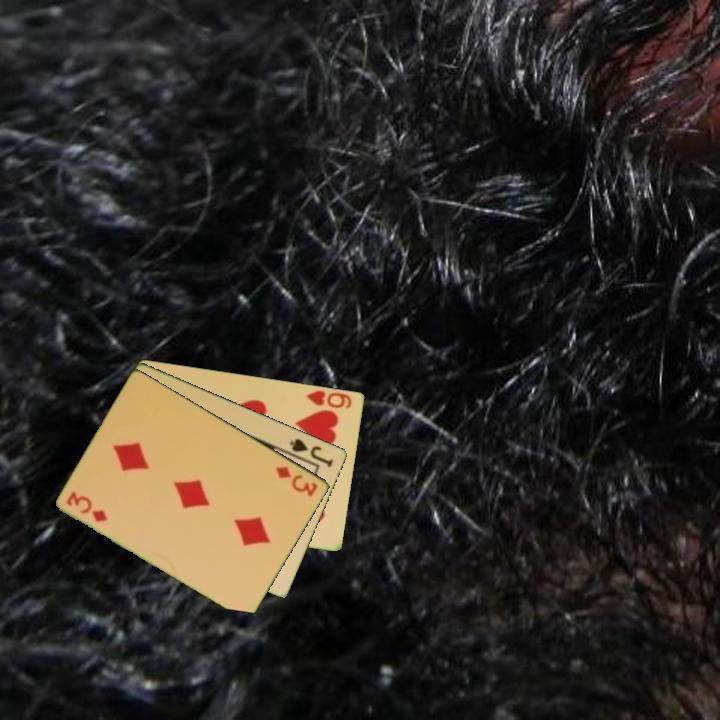3d: (272, 463, 321, 500), (63, 488, 111, 525)
6h: (303, 387, 355, 411)
Js: (286, 435, 336, 470)
